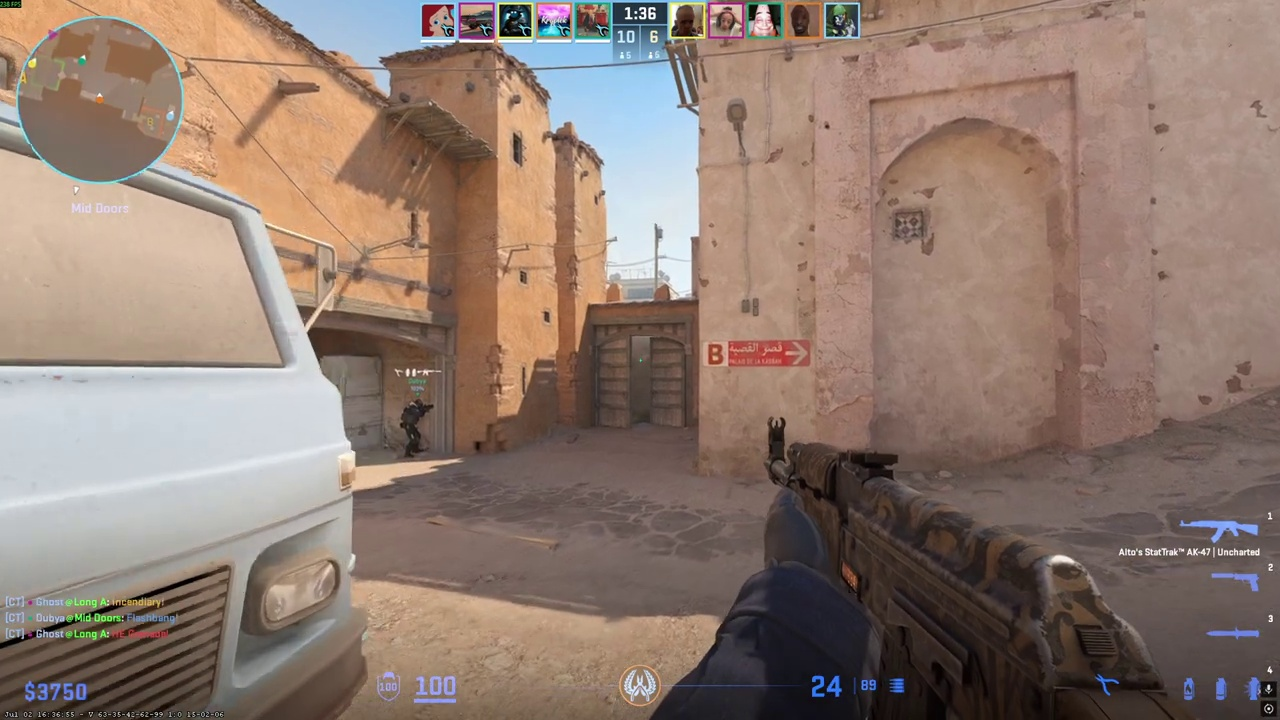CT: (401, 398, 428, 457)
